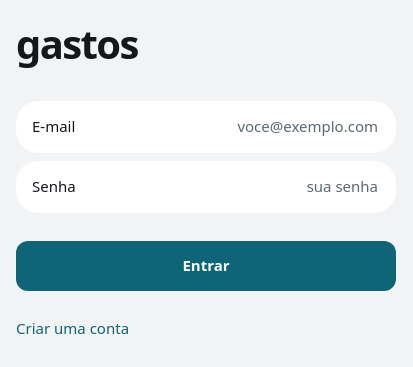
it: Login › shows the message when the password is wrong
This screenshot has width=413, height=367.
In the field labelled "E-mail": x=234, y=127 [87,115,380,139], type "ana@example.com"
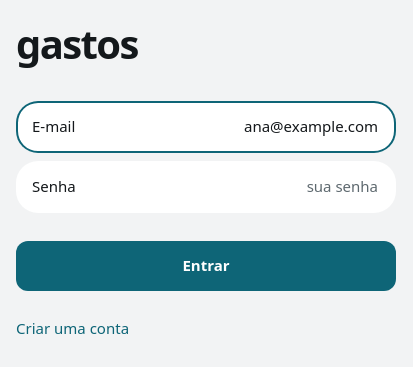
In the password field labelled "Senha": x=234, y=187 [88,175,380,199], type "errada!!"
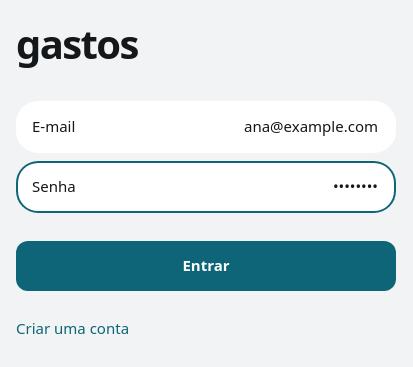
Click the button "Entrar": x=206, y=266 [16,241,396,291]
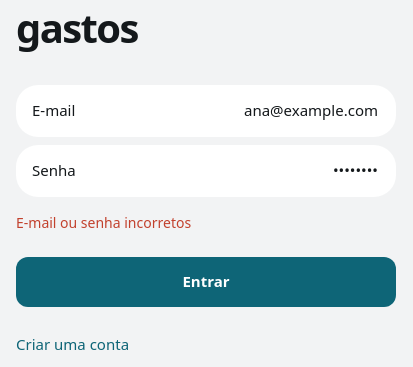
Now the text "E-mail ou senha incorretos" is shown, box [16,213,191,232]
